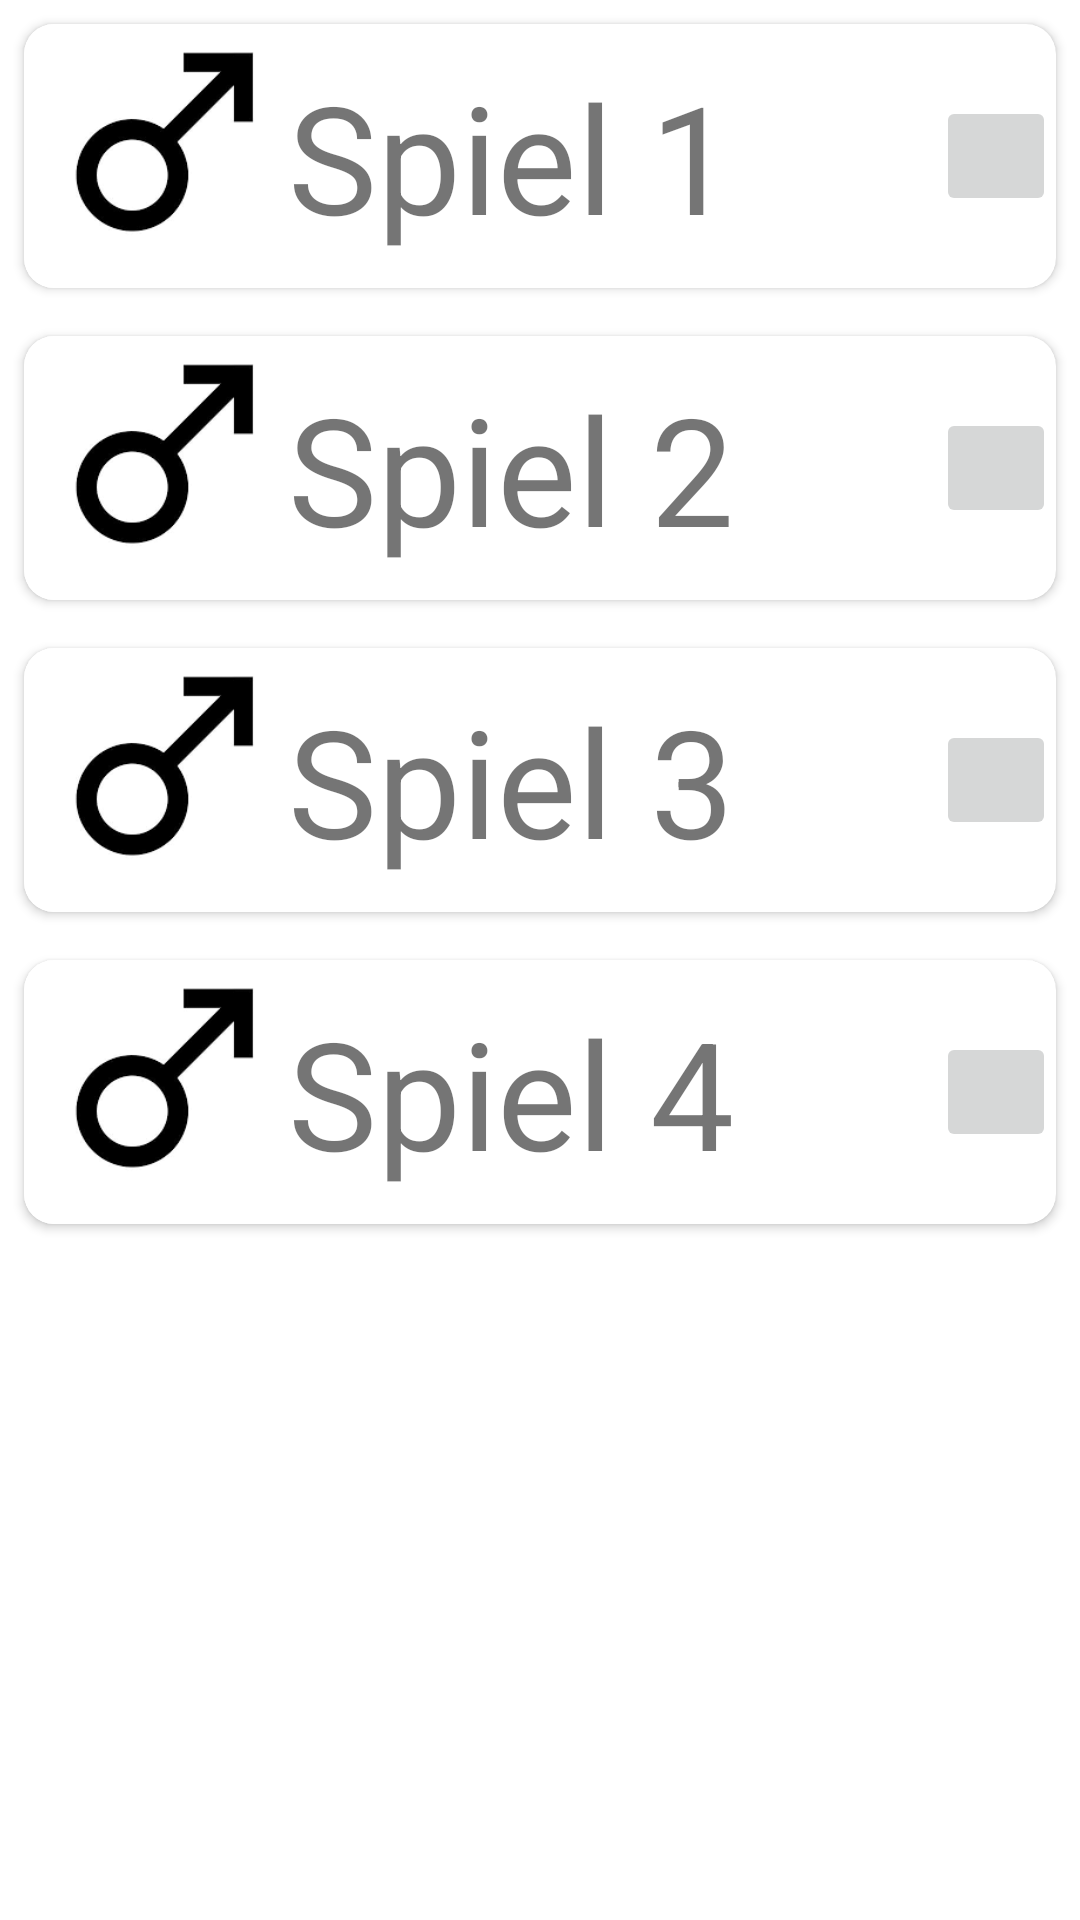

Where to tap for icons on this 1080x1920 app screen, as (x,y):
male: (138,155), (139,445), (138,761), (138,1075)
